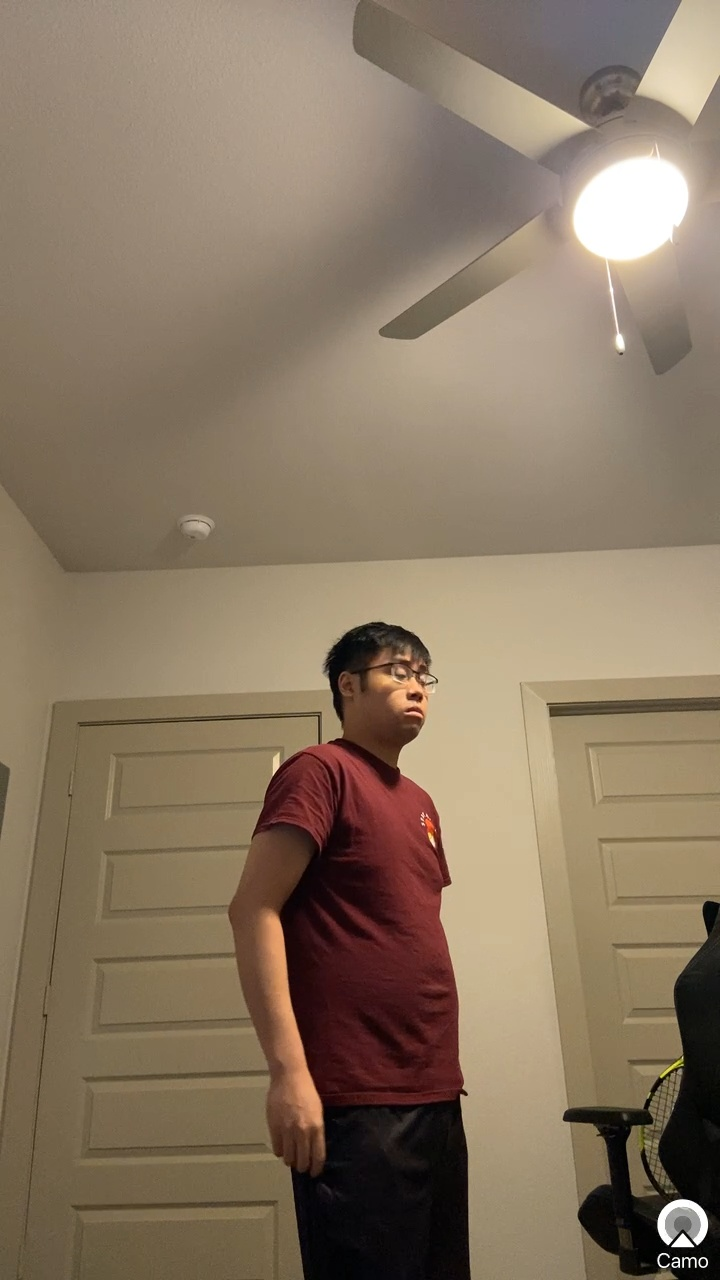Person: (204, 620, 501, 1280)
